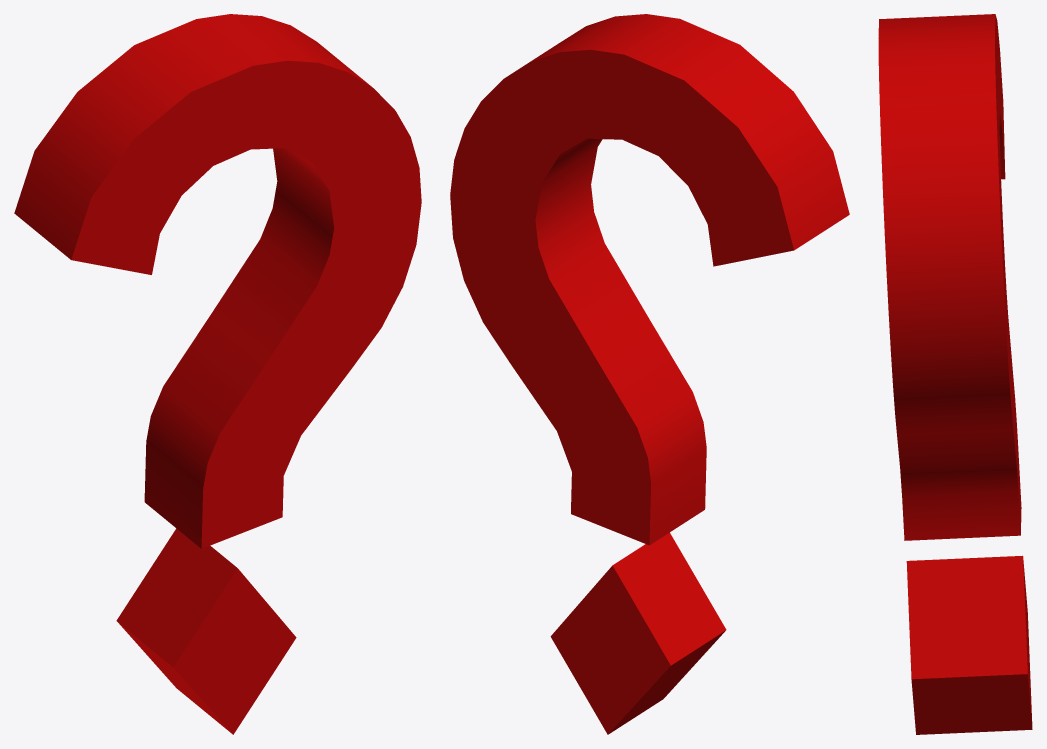
The model's file is Imprevisti.fbx.
3 views of the same model, side by side, from view 1: azimuth 30°, elevation 25°; view 2: azimuth 150°, elevation 25°; view 3: azimuth 270°, elevation 25° (orthographic). The views are drawn at different scales.
Visible parts, largest first — view 1: Model; view 2: Model; view 3: Model.
Boxes of the visible parts, x1,y1,x2,y2 form: Model: (14, 14, 421, 734); Model: (450, 14, 849, 734); Model: (878, 14, 1032, 734).
Bounding box in the file's own units: 0.1067 × 0.1996 × 0.0397.
